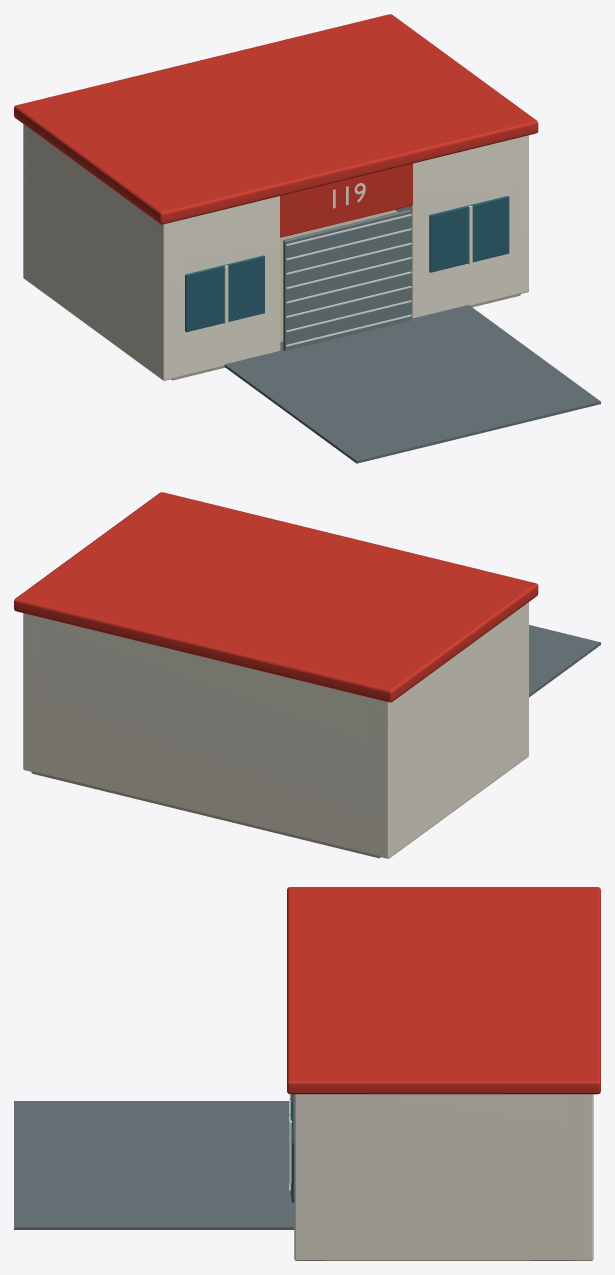
The model's file is city-fire-station.glb.
3 renders of one model, top to bottom at view 1: azimuth 30°, elevation 25°; view 2: azimuth 150°, elevation 25°; view 3: azimuth 270°, elevation 25°, orthographic. The views are drawn at different scales.
Visible parts, largest first — view 1: Building, Door; view 2: Building; view 3: Building.
Boxes of the visible parts, x1,y1,x2,y2 form: Building: (14,14,600,463); Door: (283,209,411,351); Building: (14,492,600,858); Building: (14,887,600,1260).
Size of the model in its own units: 12.4 by 5.43 by 15.7.
